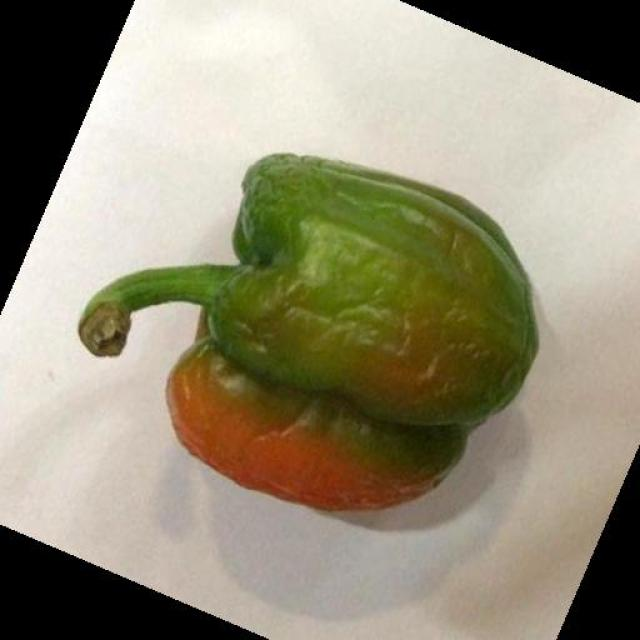Stale_Capsicum: (120, 126, 539, 529)
